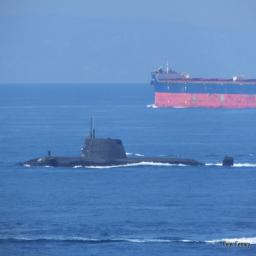submarine: (23, 130, 240, 169)
